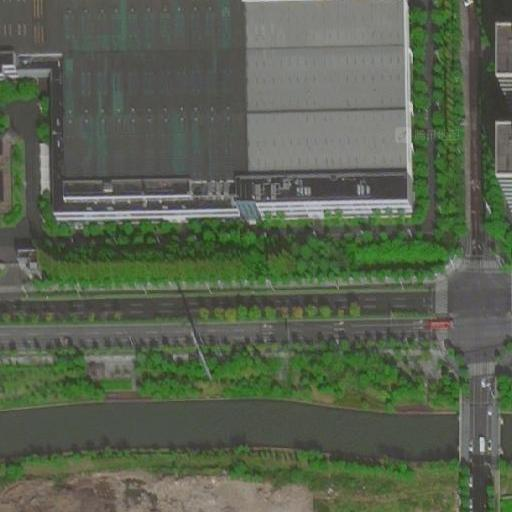building: (0, 0, 416, 220), (13, 241, 44, 277), (494, 38, 512, 97), (494, 151, 512, 210), (0, 130, 11, 205)
